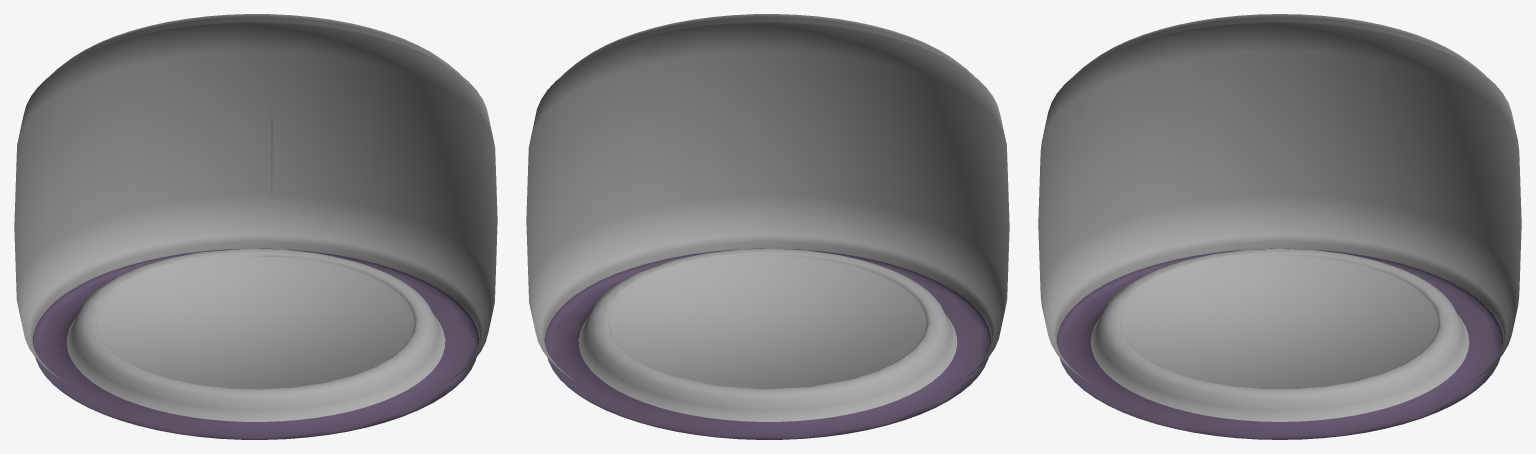
Rendered from dome.glb.
3 views of the same model, side by side, from view 1: azimuth 30°, elevation 25°; view 2: azimuth 150°, elevation 25°; view 3: azimuth 270°, elevation 25° (orthographic).
Visible parts, largest first — view 1: Dome_Metal_0, Dome_Glass_0, Dome_Rim_0; view 2: Dome_Metal_0, Dome_Glass_0, Dome_Rim_0; view 3: Dome_Metal_0, Dome_Glass_0, Dome_Rim_0.
Part boxes in pixels (x1,y1,x2,y2): Dome_Metal_0: (16, 14, 495, 421); Dome_Glass_0: (14, 50, 497, 296); Dome_Rim_0: (33, 248, 479, 439); Dome_Metal_0: (528, 14, 1007, 421); Dome_Glass_0: (526, 50, 1009, 296); Dome_Rim_0: (544, 248, 990, 439); Dome_Metal_0: (1040, 14, 1519, 421); Dome_Glass_0: (1038, 50, 1521, 294); Dome_Rim_0: (1057, 248, 1502, 439).
Bounding box in the file's own units: 6.08 × 3.4 × 6.08.
Materials: 4 (1 with a texture image).
